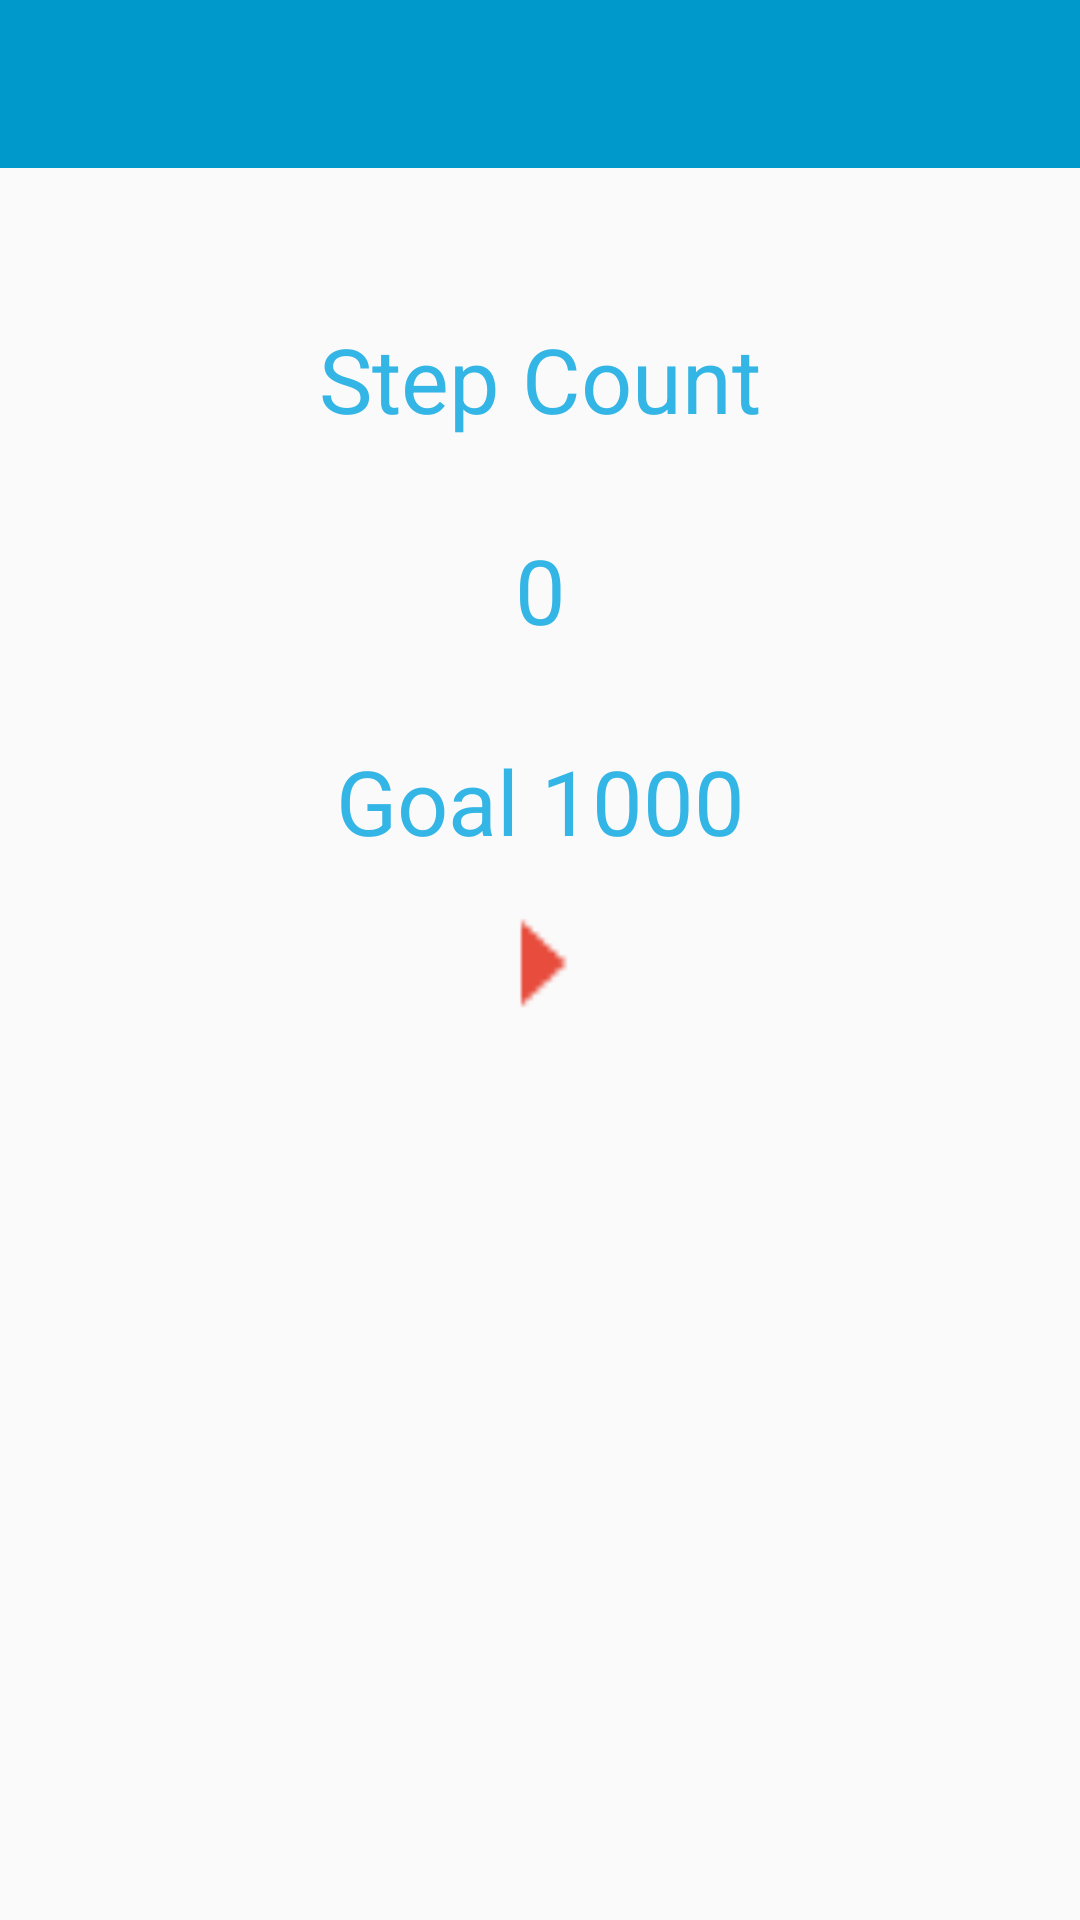

Locate icon controls on the screen. Image size 1080×1920, boxes as (x1, y1, x2, y2).
play: (520, 919, 567, 1007)
